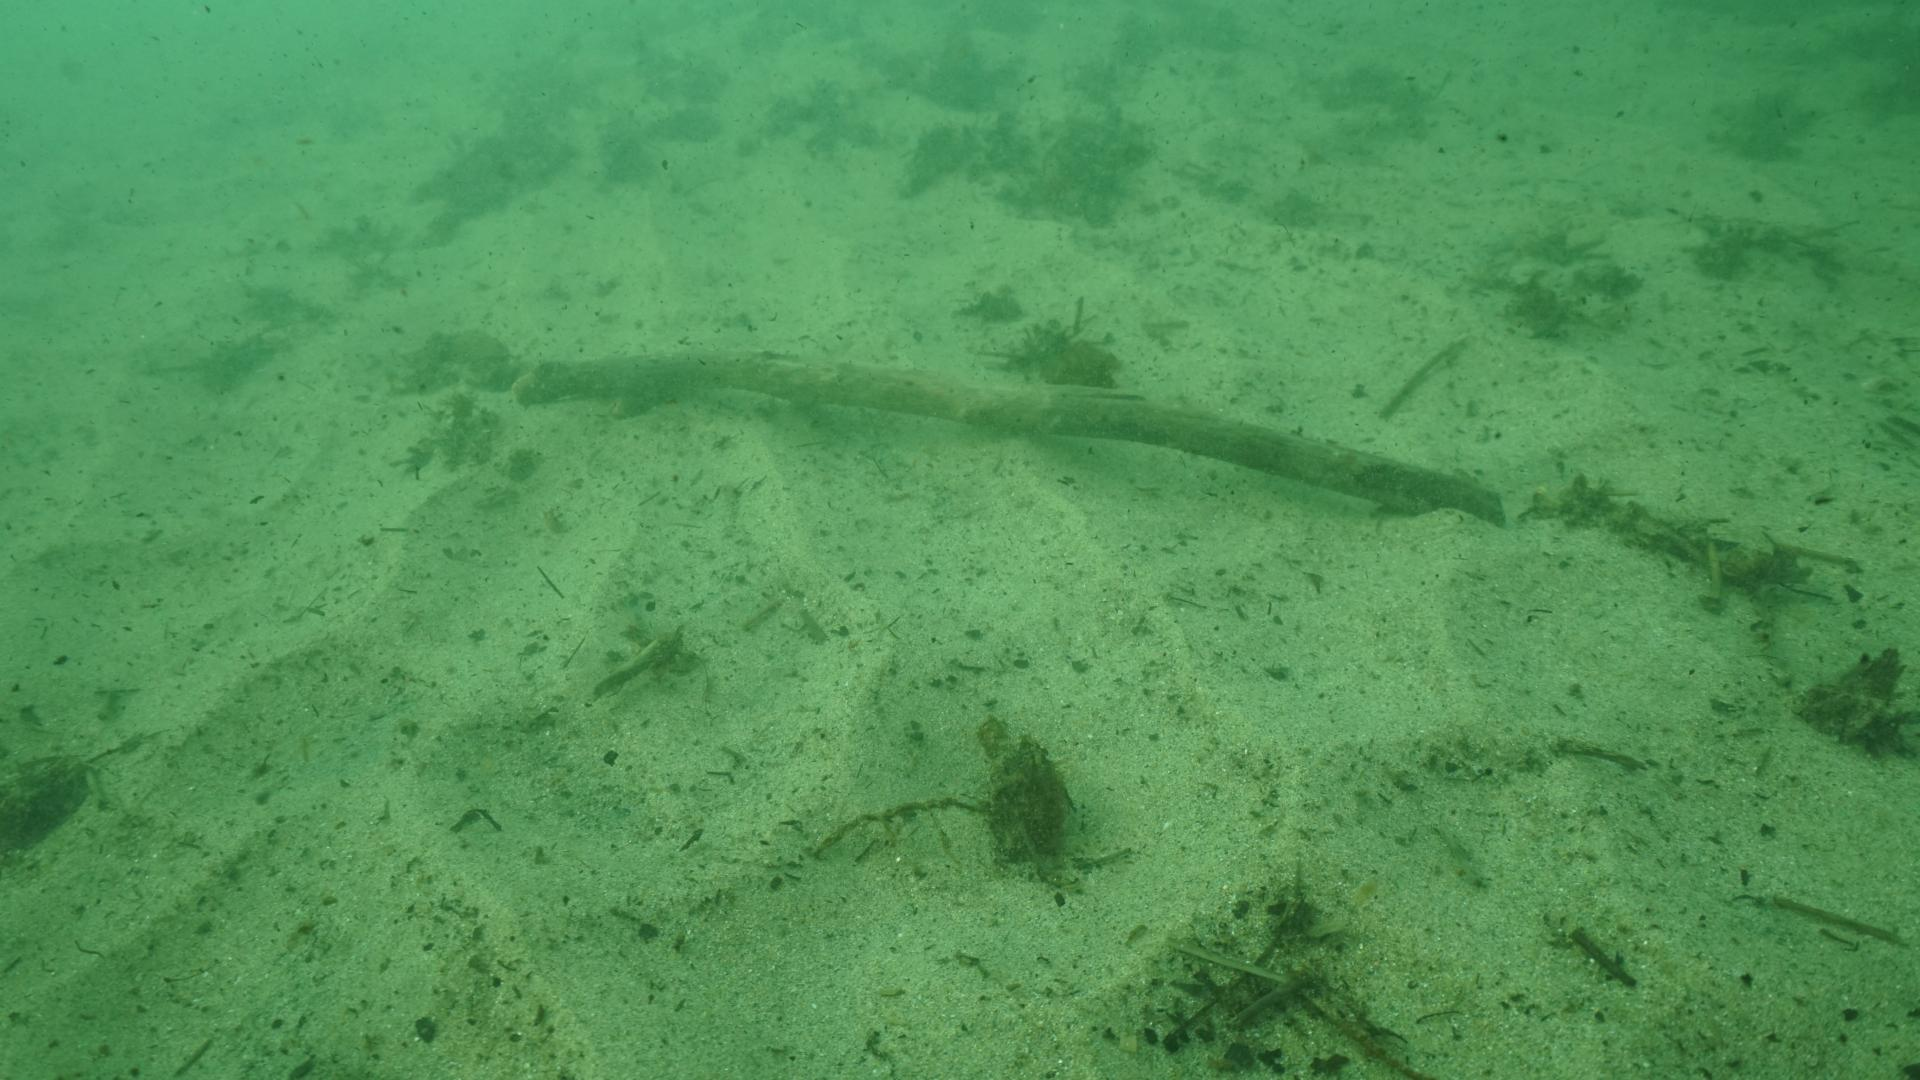wood: (512, 349, 1507, 527)
